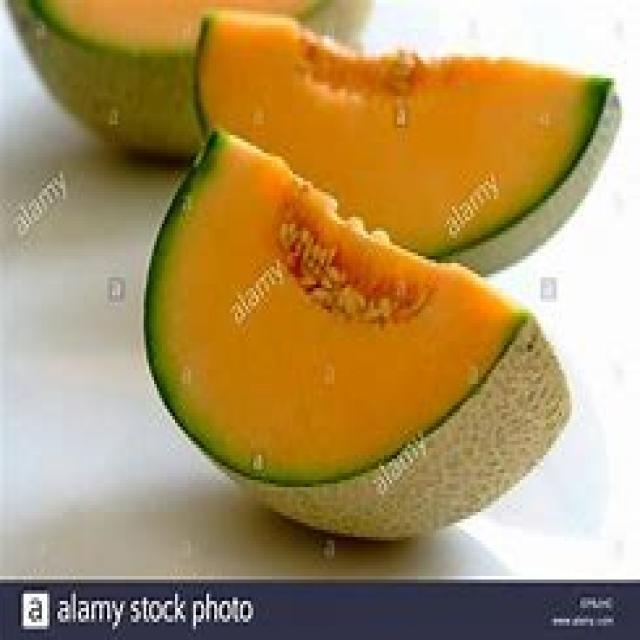Hami Melon: (145, 133, 570, 539), (196, 9, 621, 276)
